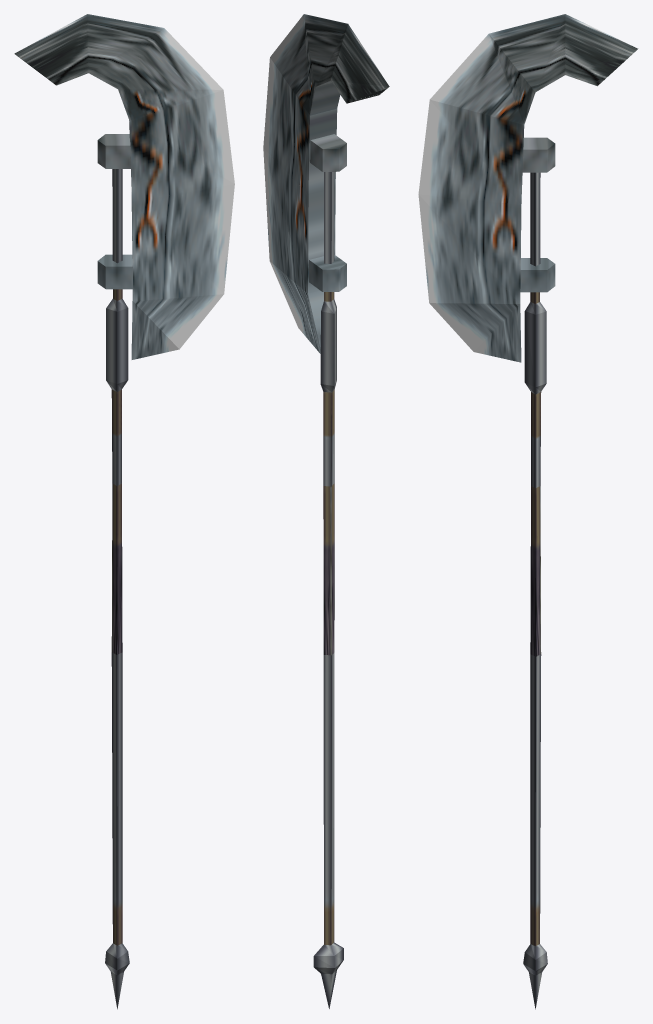
File: longarm01_1.obj
3 views of the same model, side by side, from view 1: azimuth 90°, elevation 25°; view 2: azimuth 210°, elevation 25°; view 3: azimuth 270°, elevation 25° (orthographic).
Parts seen in each view (by area): view 1: longarm01_1; view 2: longarm01_1; view 3: longarm01_1.
Boxes of the visible parts, left/top/right/bottom form: longarm01_1: left=14, top=14, right=234, bottom=1009; longarm01_1: left=263, top=14, right=389, bottom=1008; longarm01_1: left=418, top=14, right=638, bottom=1009.
Size of the model in its own units: 0.09 by 2.44 by 0.4887.
